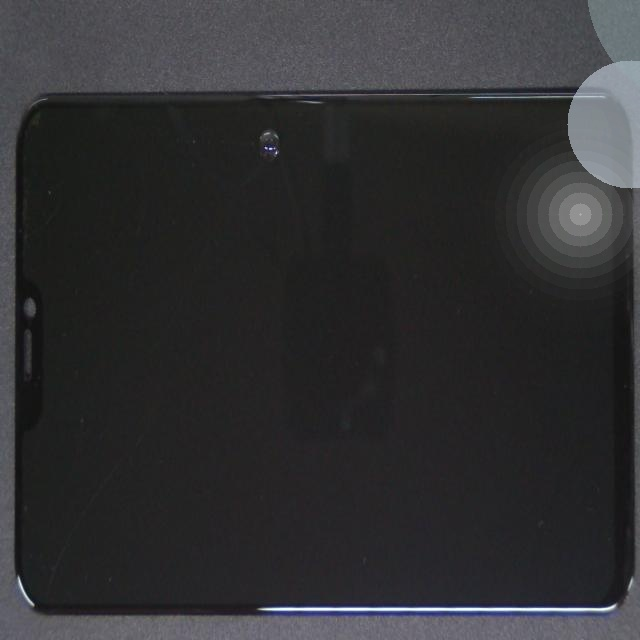oil: (140, 36, 391, 178)
